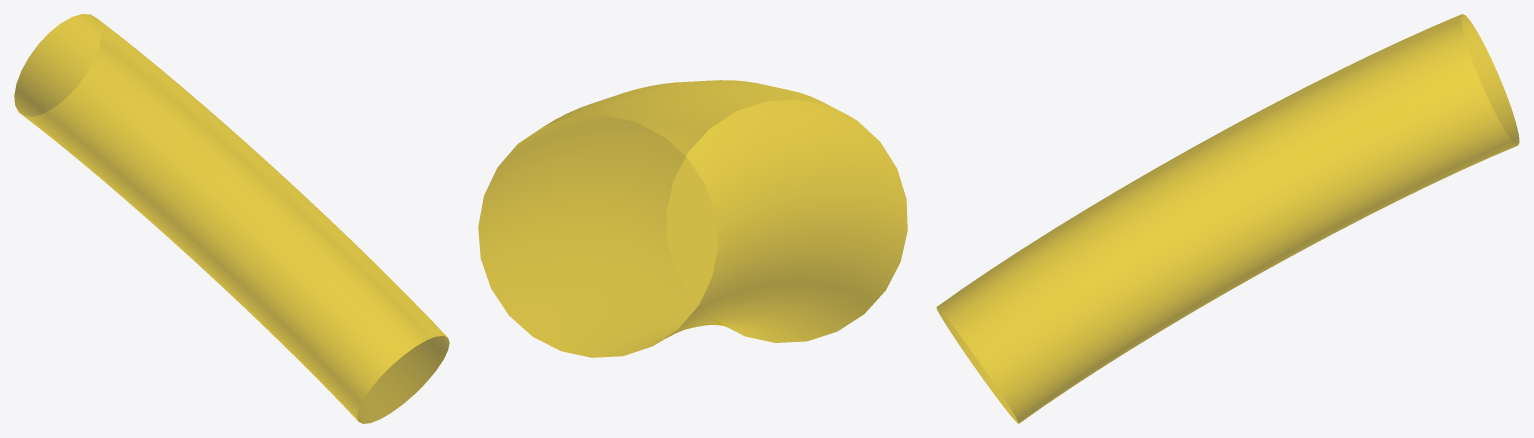
Rendered from Event_15818458_track_52.fbx.
3 renders of one model, left to right at view 1: azimuth 30°, elevation 25°; view 2: azimuth 150°, elevation 25°; view 3: azimuth 270°, elevation 25°, orthographic. The views are drawn at different scales.
Visible parts, largest first — view 1: Model; view 2: Model; view 3: Model.
Part boxes in pixels (left/top/right/bottom): Model: left=14, top=14, right=449, bottom=423; Model: left=478, top=80, right=907, bottom=357; Model: left=936, top=14, right=1519, bottom=423.
Size of the model in its own units: 0.0854 by 0.1026 by 0.1632.
